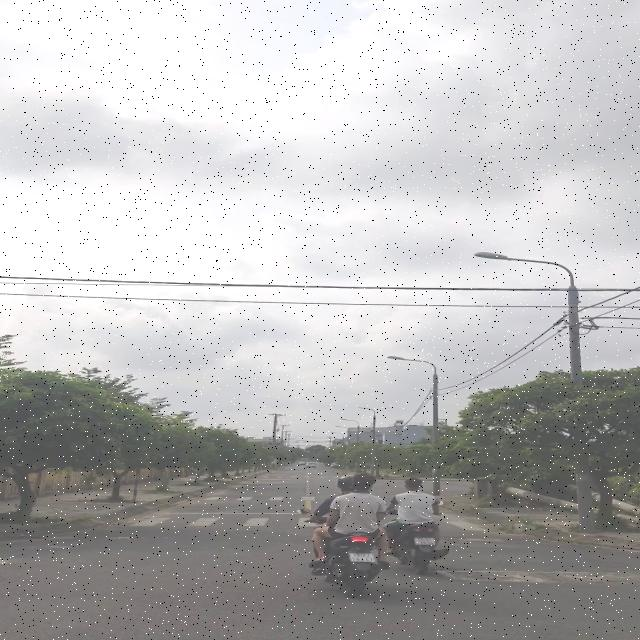helmet: (337, 476, 353, 492)
no_helmet: (401, 474, 426, 496)
